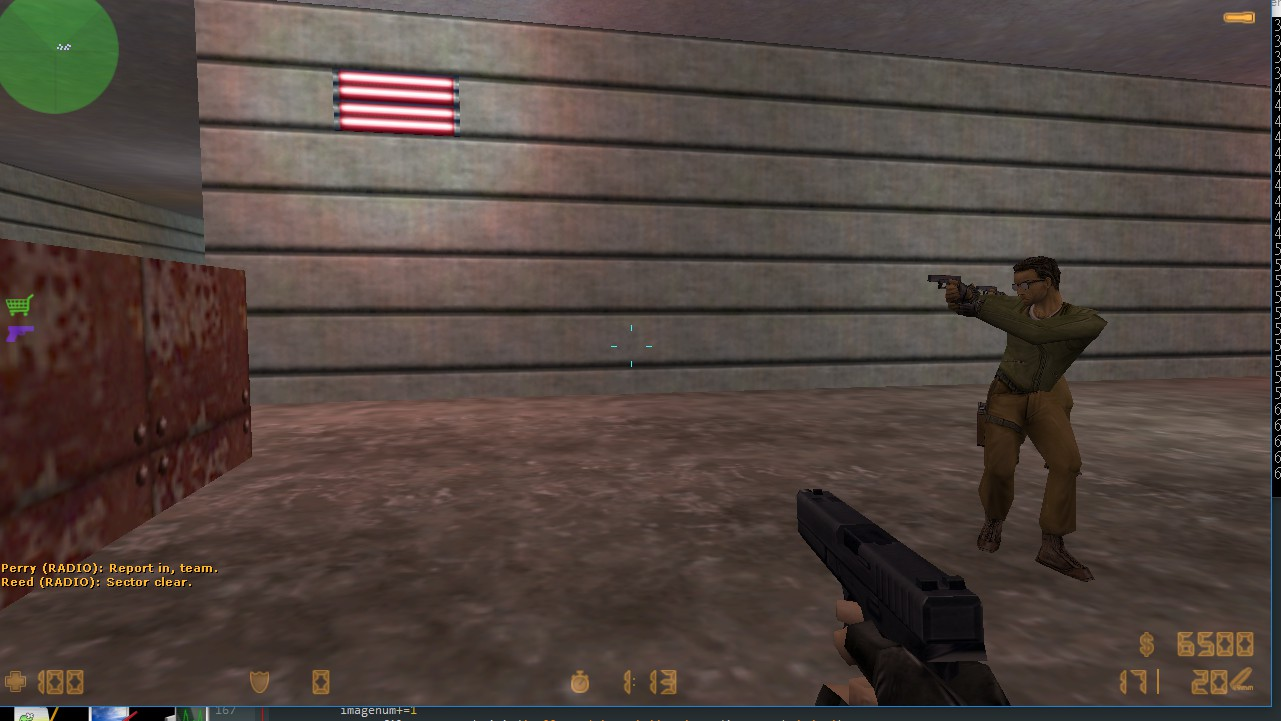person: (952, 249, 1117, 590)
